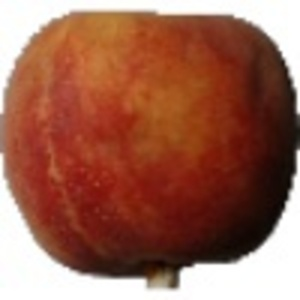pêssego: (1, 8, 300, 292)
